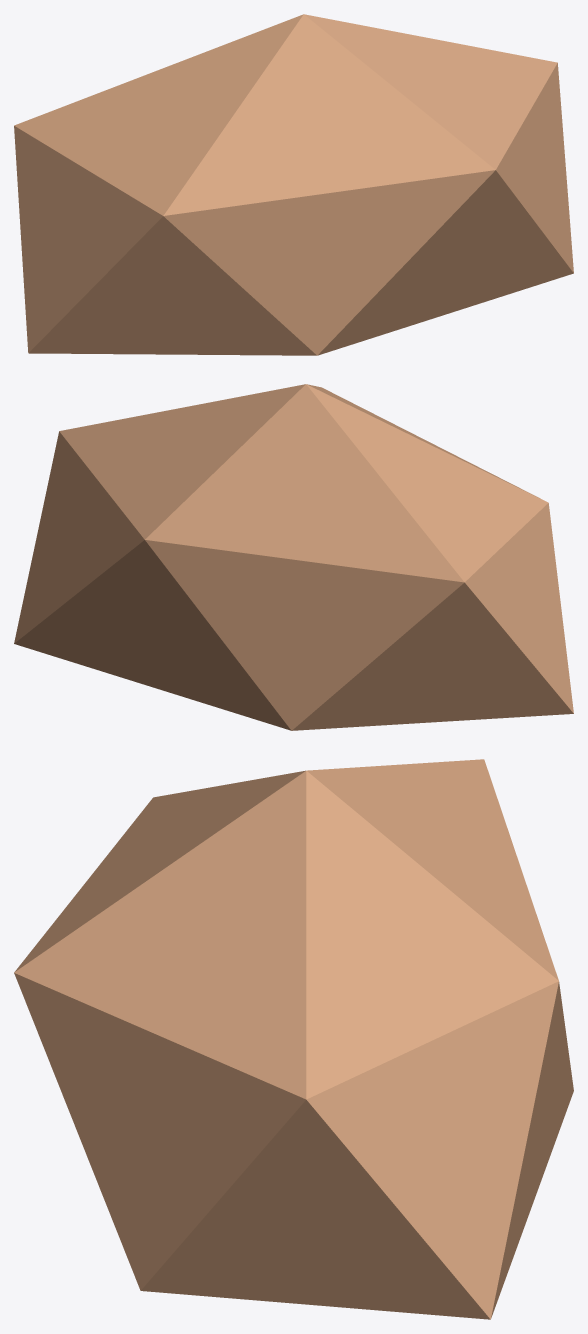
The model's file is item_096_seal_s.glb.
The picture shows the model from 3 angles, top to bottom: view 1: azimuth 30°, elevation 25°; view 2: azimuth 150°, elevation 25°; view 3: azimuth 270°, elevation 25°; orthographic projection. The views are drawn at different scales.
Visible parts, largest first — view 1: item_096_seal_s; view 2: item_096_seal_s; view 3: item_096_seal_s.
Boxes of the visible parts, x1,y1,x2,y2 form: item_096_seal_s: (14,14,573,355); item_096_seal_s: (14,384,573,730); item_096_seal_s: (14,759,573,1319).
Size of the model in its own units: 0.3282 by 0.2013 by 0.214.
